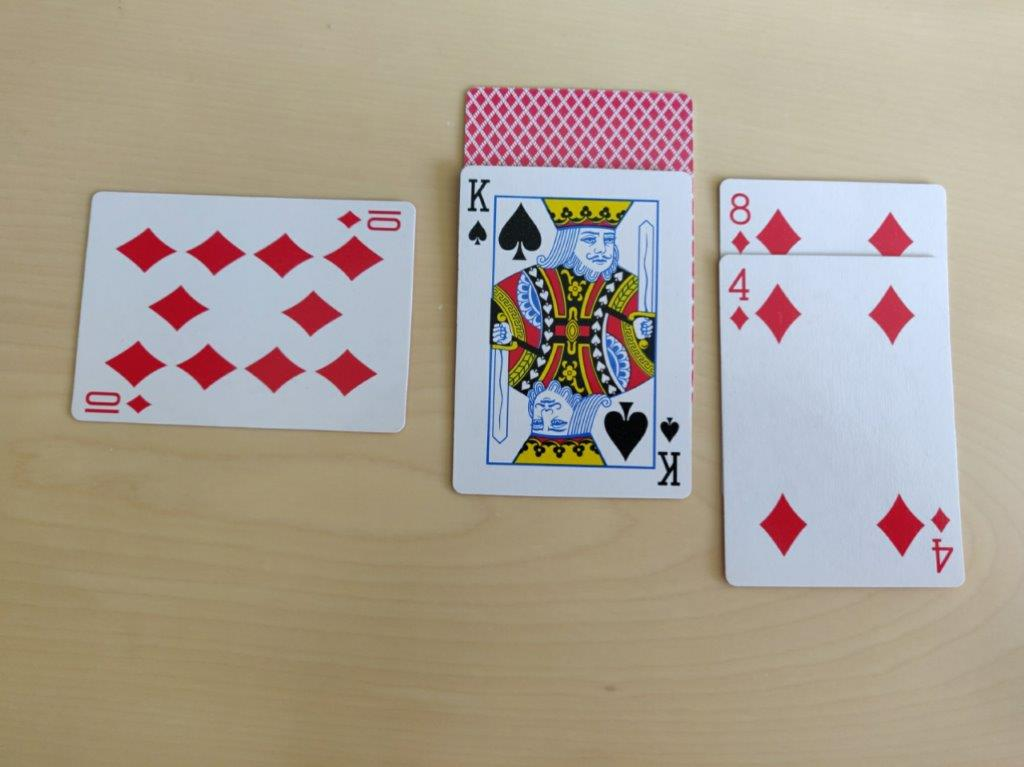10D: (327, 199, 408, 235)
4D: (724, 262, 754, 336)
8: (726, 188, 757, 256)
BACK: (462, 88, 701, 176)
KS: (463, 176, 493, 249)
